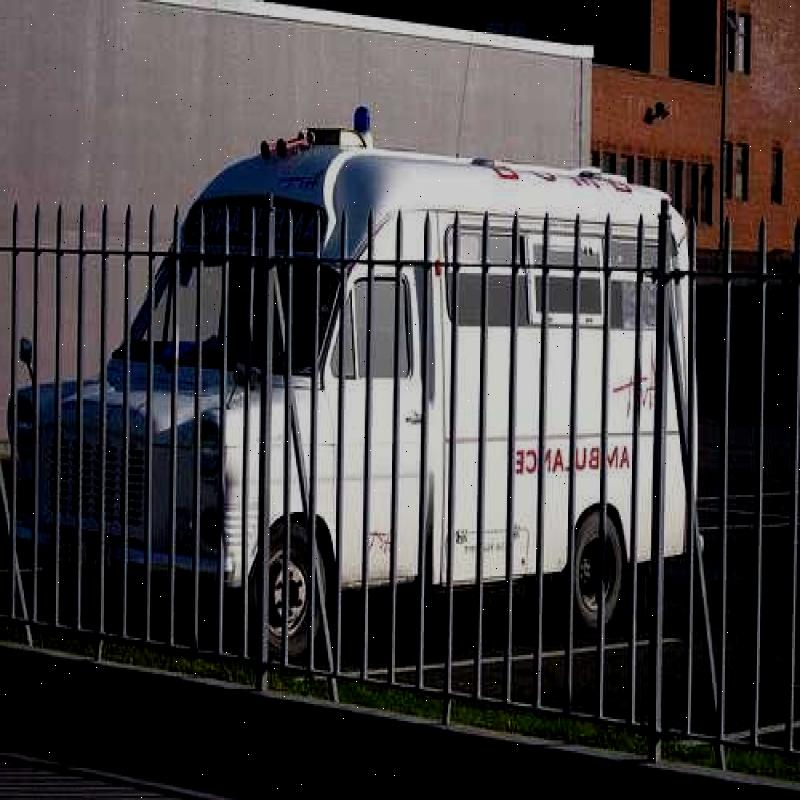bike: (10, 137, 724, 603)
